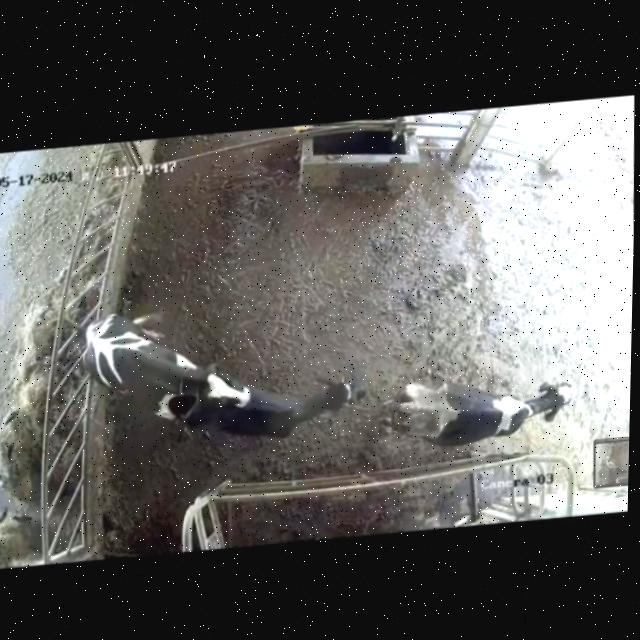ride: (69, 297, 257, 451)
stand: (370, 331, 585, 463), (176, 332, 365, 467)
